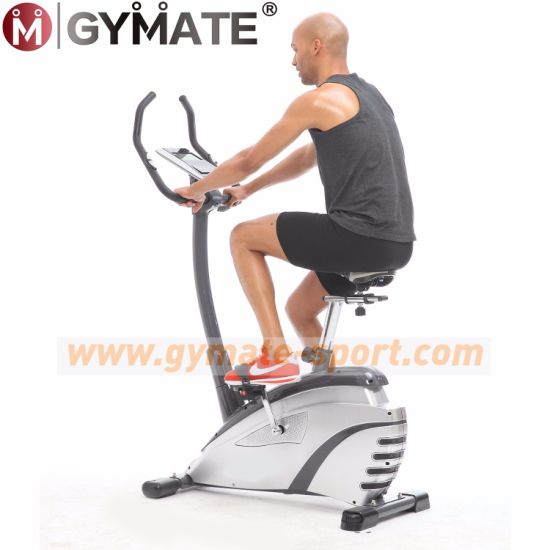gym_bike: (109, 84, 442, 533)
